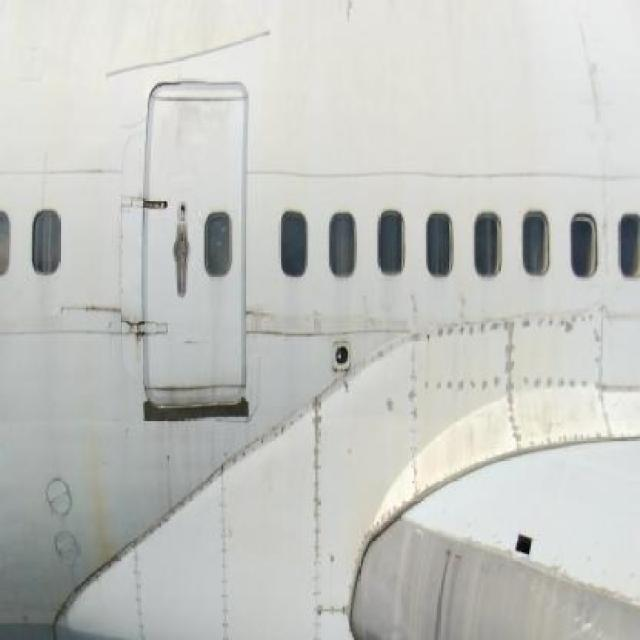Missing-Rivet: (534, 303, 617, 402), (305, 383, 332, 640), (431, 307, 495, 413), (495, 307, 533, 445), (401, 308, 428, 497), (211, 451, 237, 640), (127, 503, 150, 640), (152, 482, 211, 533), (240, 416, 303, 462)
Rust: (79, 414, 124, 571)
